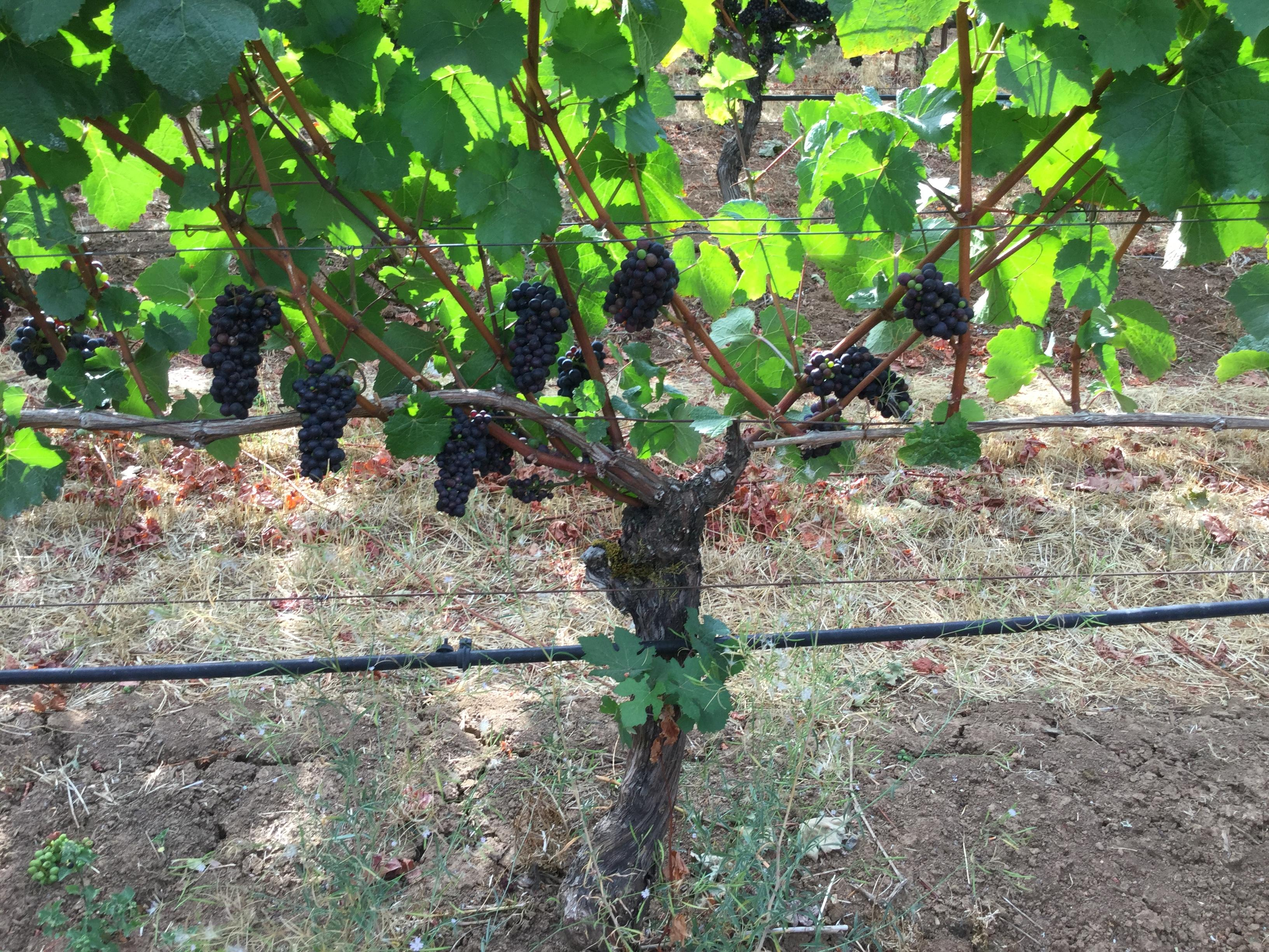leaf: (1092, 18, 1268, 214), (112, 0, 259, 101), (456, 139, 562, 247), (814, 130, 924, 234), (399, 0, 526, 86), (711, 200, 802, 299), (386, 66, 472, 170), (996, 25, 1092, 115), (1066, 0, 1178, 72), (1163, 192, 1268, 268), (82, 128, 161, 229), (549, 7, 636, 98), (801, 223, 893, 307), (975, 234, 1059, 326), (302, 17, 382, 108), (829, 0, 956, 56), (972, 101, 1054, 177), (334, 112, 409, 190), (1105, 299, 1176, 381), (1054, 225, 1118, 309), (985, 324, 1053, 402), (628, 397, 701, 463), (897, 413, 981, 469), (3, 186, 77, 249), (623, 0, 686, 74), (384, 393, 453, 458), (0, 452, 65, 518), (894, 84, 961, 144), (685, 242, 737, 317), (0, 0, 83, 44), (25, 139, 91, 191), (1224, 264, 1268, 338), (134, 257, 192, 307), (35, 268, 89, 320), (5, 428, 64, 469), (975, 0, 1051, 31), (143, 308, 196, 352), (96, 286, 140, 331), (864, 317, 914, 353), (180, 164, 218, 210), (1225, 0, 1268, 39), (1216, 350, 1268, 382), (245, 190, 277, 226), (952, 121, 958, 158), (35, 433, 48, 444), (865, 87, 875, 94), (54, 450, 60, 455), (19, 430, 33, 432), (877, 98, 879, 105), (115, 226, 118, 226), (601, 14, 603, 14)
